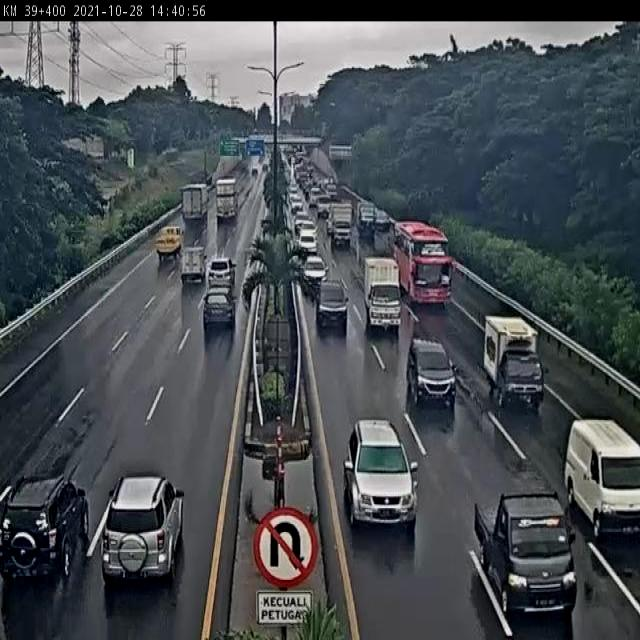Bus: (390, 218, 456, 308)
Car: (99, 473, 187, 594), (0, 477, 91, 590), (346, 420, 420, 530), (406, 338, 459, 407), (314, 279, 350, 333), (202, 286, 236, 332), (298, 254, 329, 289), (206, 257, 236, 286), (296, 230, 320, 254), (294, 221, 319, 235), (288, 194, 305, 211), (291, 213, 313, 224)
Truck: (473, 484, 579, 616), (564, 413, 640, 545), (482, 313, 548, 410), (363, 255, 403, 334), (180, 182, 209, 225), (155, 222, 183, 262), (180, 246, 208, 283), (216, 177, 239, 221), (330, 202, 350, 248), (356, 198, 376, 238)
